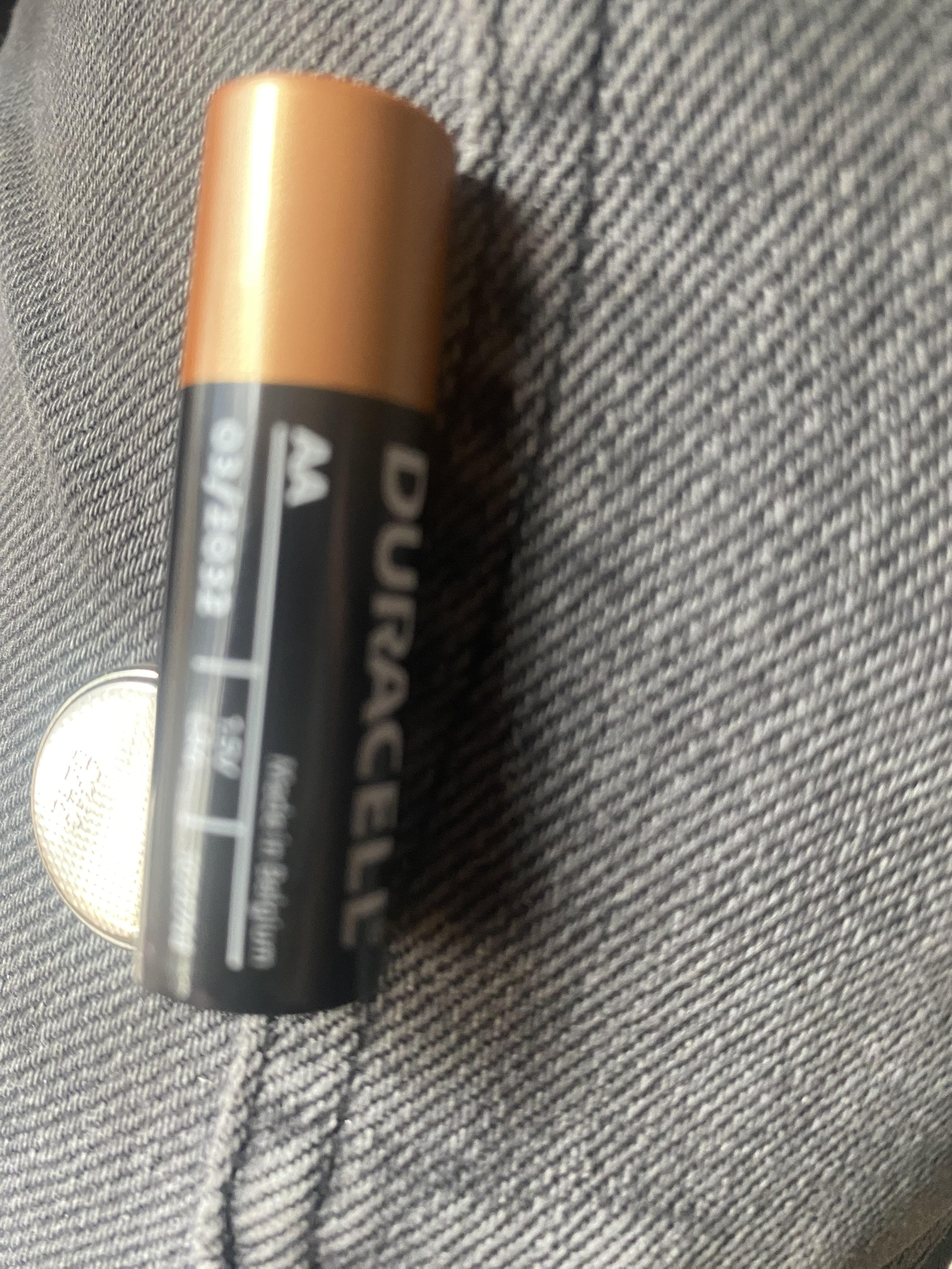AA: (127, 66, 468, 1024)
